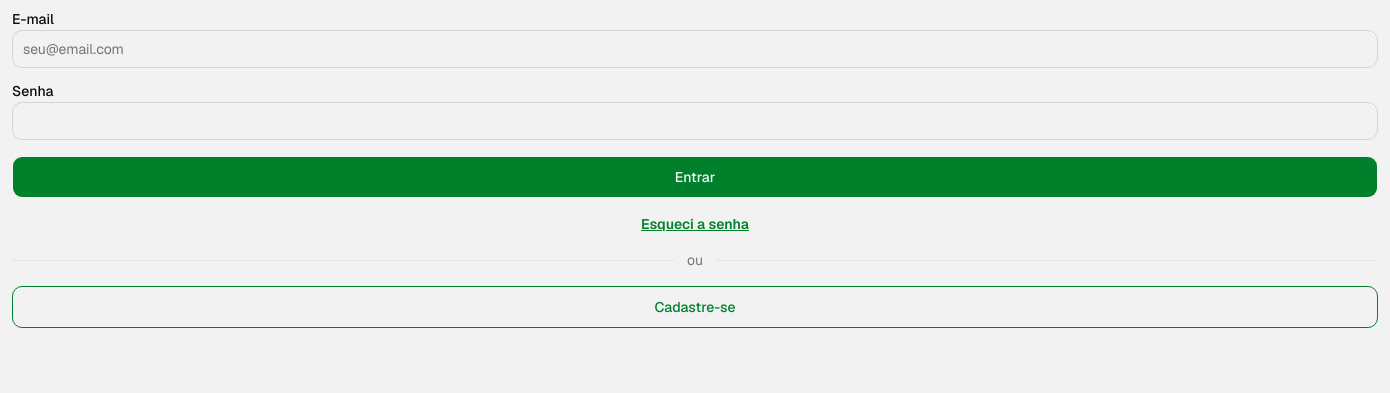
Test: LoginForm › validation › shows both errors on completely empty submit
Step 1. Click the button "Entrar" → (695, 177), box [12,156,1378,198]
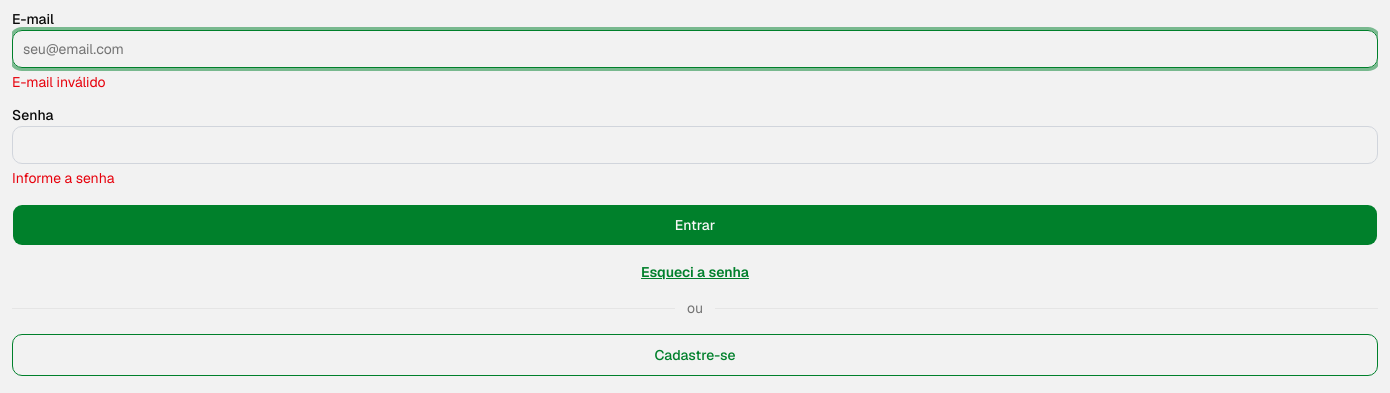
expect the text "E-mail inválido" is shown: met, box [12,73,106,91]
expect the text "Informe a senha" is shown: met, box [12,169,114,187]
